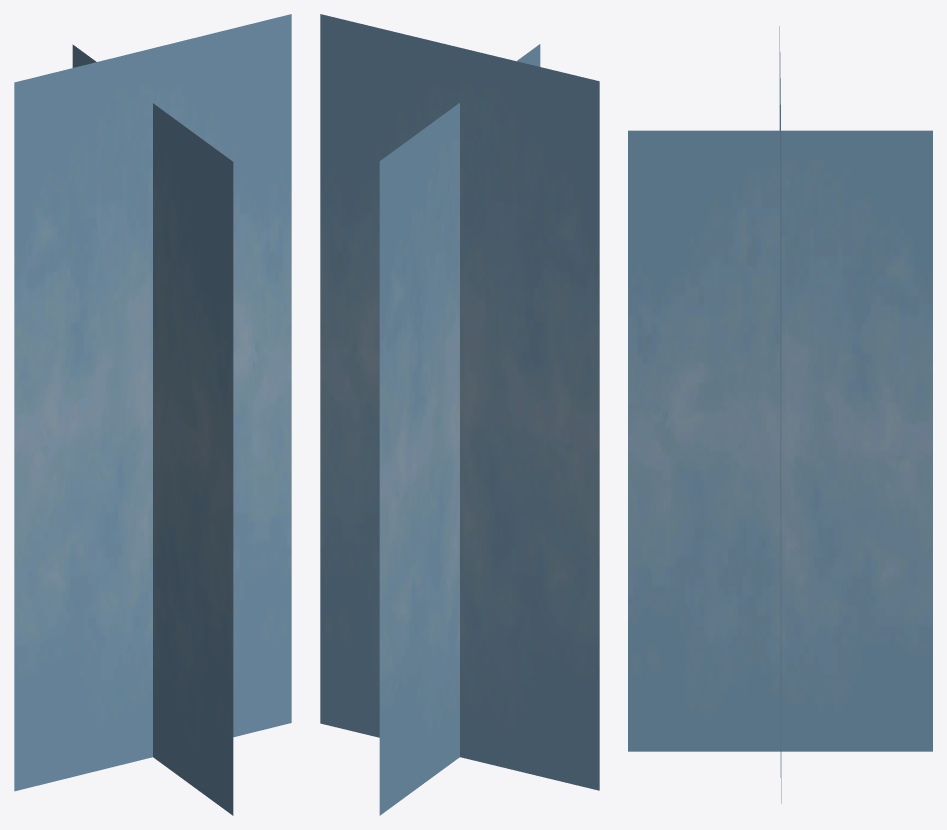
Rendered from fog.fbx.
The picture shows the model from 3 angles, left to right: view 1: azimuth 30°, elevation 25°; view 2: azimuth 150°, elevation 25°; view 3: azimuth 270°, elevation 25°; orthographic projection. The views are drawn at different scales.
Visible parts, largest first — view 1: fognolight; view 2: fognolight; view 3: fognolight.
Boxes of the visible parts, x1=… form: fognolight: x1=14, y1=14, x2=291, y2=815; fognolight: x1=320, y1=14, x2=599, y2=815; fognolight: x1=628, y1=26, x2=932, y2=803.
Bounding box in the file's own units: 11.69 × 28.46 × 11.69.
